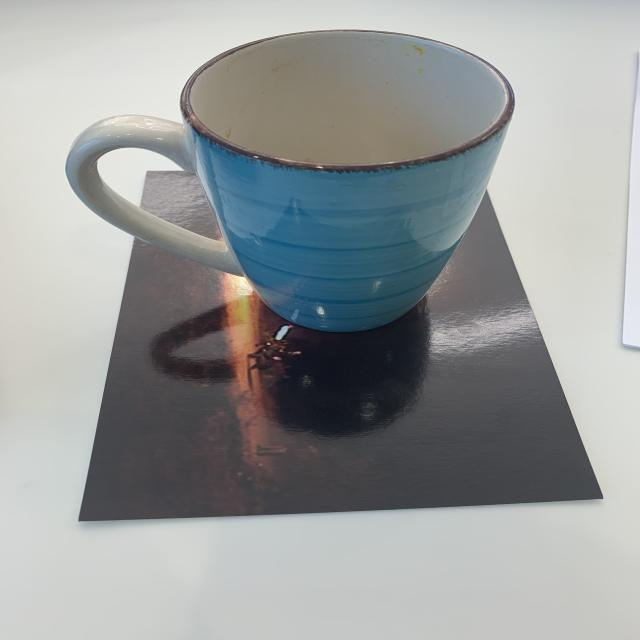Cup: (50, 9, 528, 344)
Spoon: (50, 9, 528, 344)
